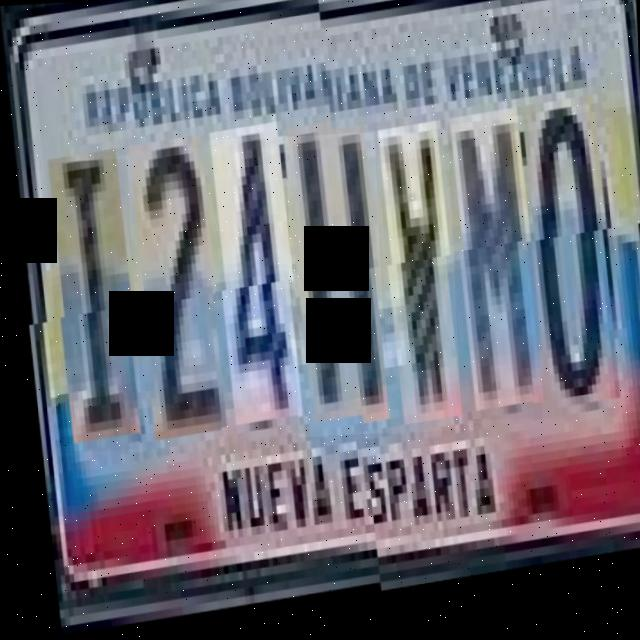2: (125, 148, 223, 452)
4: (206, 138, 299, 442)
H: (283, 134, 385, 440)
I: (45, 159, 138, 455)
M: (446, 123, 539, 426)
O: (518, 113, 616, 426)
W: (374, 133, 458, 436)
